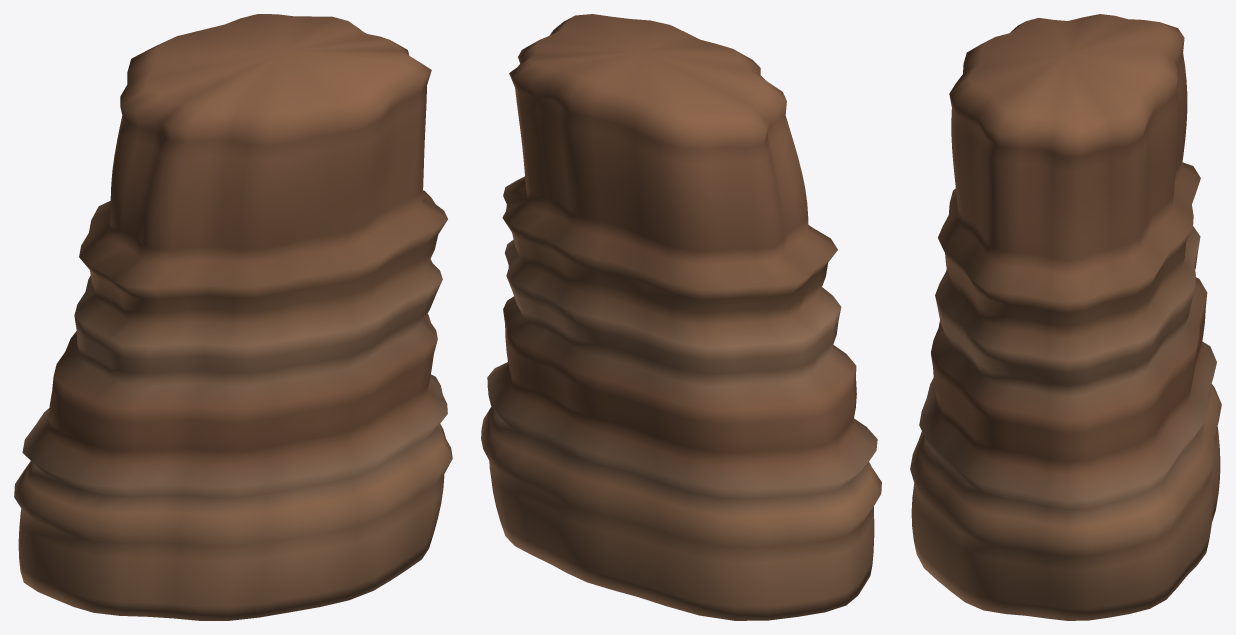
The model's file is redstone-1.glb.
The picture shows the model from 3 angles, left to right: view 1: azimuth 30°, elevation 25°; view 2: azimuth 150°, elevation 25°; view 3: azimuth 270°, elevation 25°; orthographic projection. The views are drawn at different scales.
Visible parts, largest first — view 1: redstone_1; view 2: redstone_1; view 3: redstone_1.
Part boxes in pixels (x1,y1,x2,y2): redstone_1: (14,14,452,620); redstone_1: (481,14,881,620); redstone_1: (910,14,1221,620).
Size of the model in its own units: 5.18 by 6.14 by 3.44.
